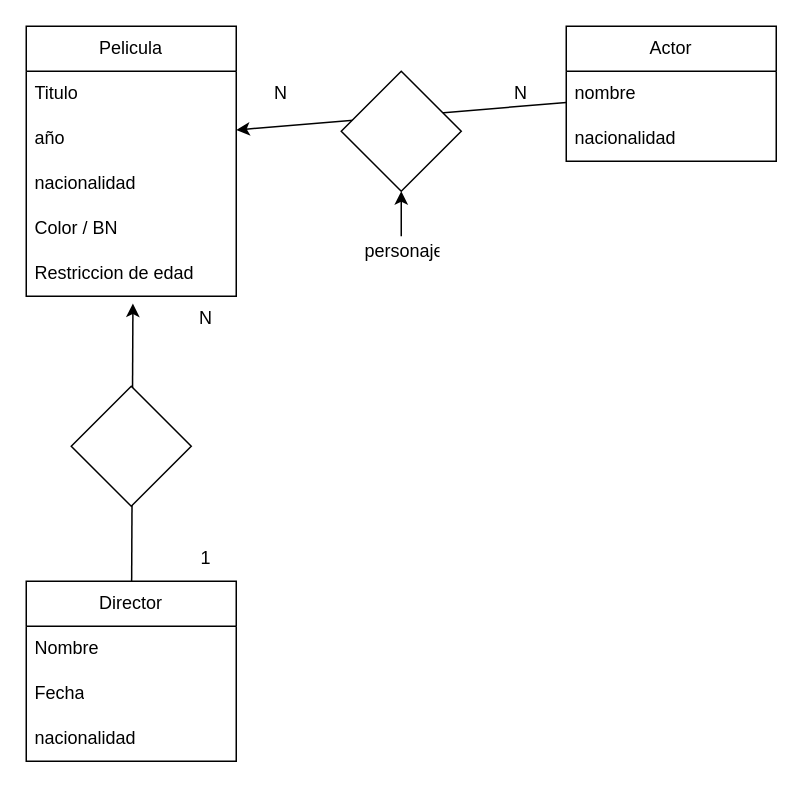
Some shapes in this 803 by 788 pixel diagram are drawn without their labels. Each missing label, with the centre of its shape:
"aparece" belongs at [400,130].
"Dirige" belongs at [130,445].
